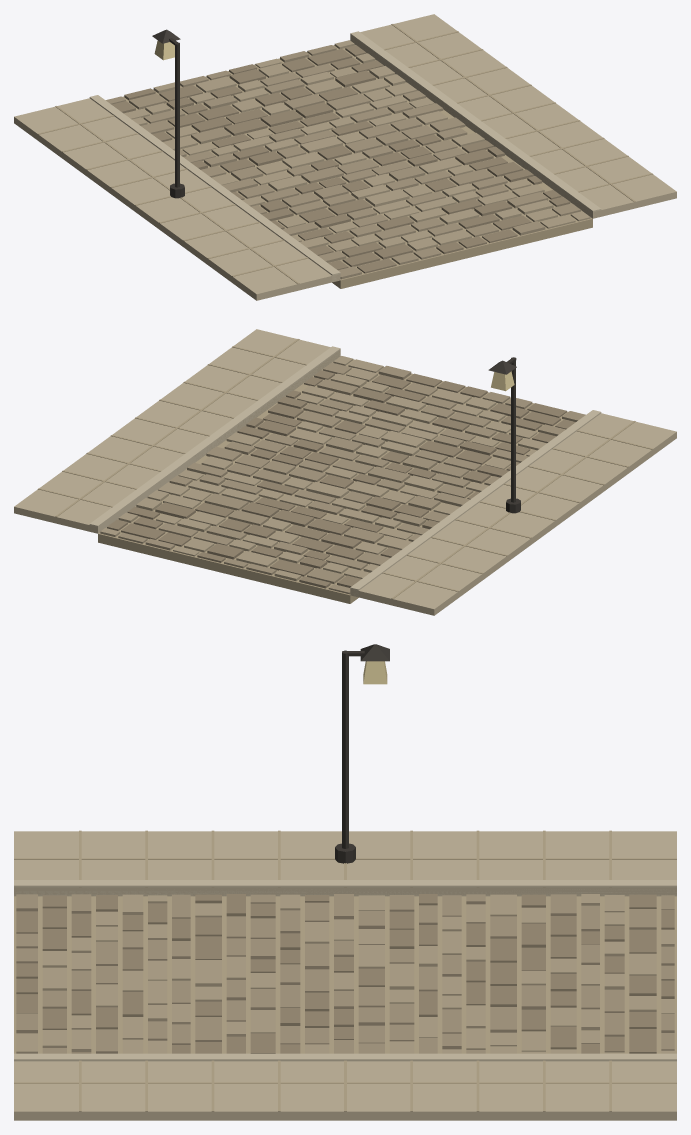
File: yol-duz.glb
3 renders of one model, top to bottom at view 1: azimuth 30°, elevation 25°; view 2: azimuth 150°, elevation 25°; view 3: azimuth 270°, elevation 25°, orthographic. The views are drawn at different scales.
Parts seen in each view (by area): view 1: kaldirim, yol3, yol, yol2, harc, bordur, demir; view 2: kaldirim, yol3, yol, yol2, harc, bordur, demir; view 3: kaldirim, yol3, yol, yol2, harc, bordur, demir.
Boxes of the visible parts, bbox=[...] form: kaldirim: bbox=[14, 14, 676, 300]; yol3: bbox=[111, 45, 570, 273]; yol: bbox=[105, 45, 580, 279]; yol2: bbox=[124, 40, 590, 251]; harc: bbox=[38, 24, 652, 288]; bordur: bbox=[89, 31, 601, 281]; demir: bbox=[152, 29, 184, 198]; kaldirim: bbox=[14, 329, 676, 615]; yol3: bbox=[107, 370, 575, 588]; yol: bbox=[118, 362, 585, 594]; yol2: bbox=[100, 356, 546, 581]; harc: bbox=[38, 339, 652, 603]; bordur: bbox=[89, 346, 601, 597]; demir: bbox=[488, 357, 520, 513]; kaldirim: bbox=[14, 831, 676, 1120]; yol3: bbox=[16, 894, 674, 1053]; yol: bbox=[16, 894, 674, 1053]; yol2: bbox=[16, 894, 674, 1053]; harc: bbox=[14, 830, 676, 1111]; bordur: bbox=[14, 880, 676, 1061]; demir: bbox=[335, 644, 389, 863].
Bounding box in the file's own units: 10 × 3.92 × 10.
